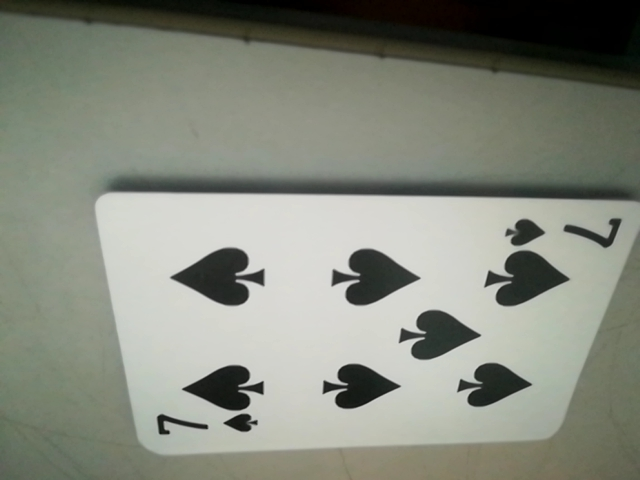ht 7: (144, 403, 264, 452)
